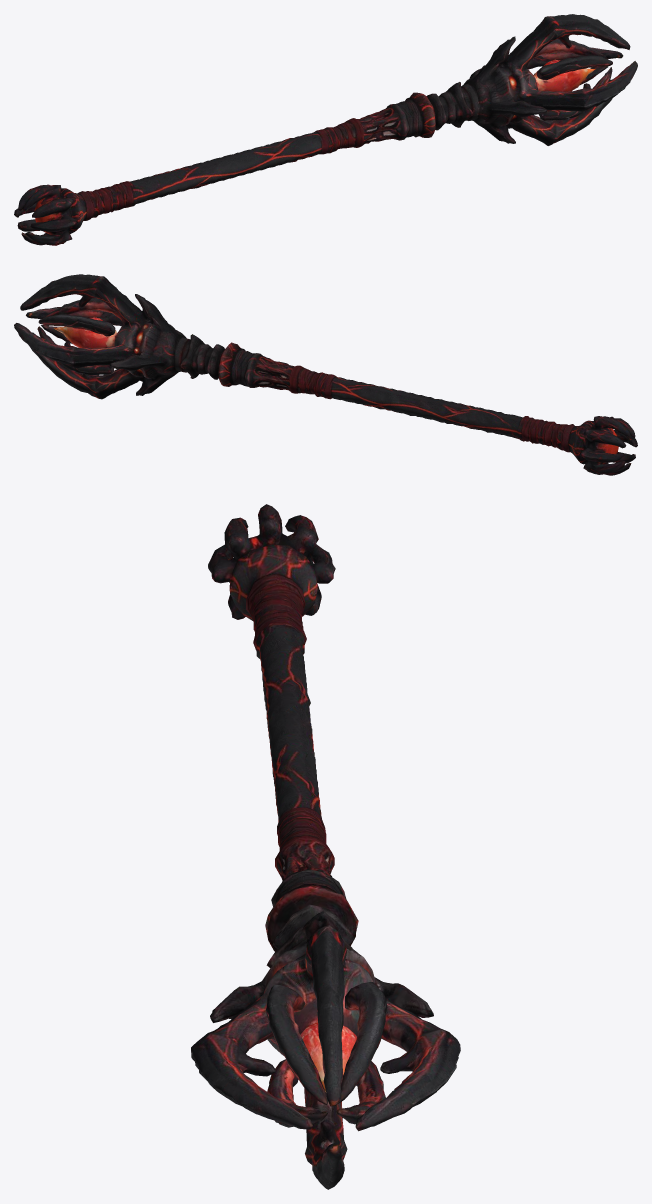
Rendered from EmberveinStaff.glb.
3 renders of one model, top to bottom at view 1: azimuth 30°, elevation 25°; view 2: azimuth 150°, elevation 25°; view 3: azimuth 270°, elevation 25°, orthographic. The views are drawn at different scales.
Parts seen in each view (by area): view 1: Mesh_0; view 2: Mesh_0; view 3: Mesh_0.
Part boxes in pixels (x1,y1,x2,y2): Mesh_0: (14,14,637,245); Mesh_0: (14,274,637,475); Mesh_0: (191,504,460,1189).
Size of the model in its own units: 1.56 by 0.306 by 0.3064.
Materials: 1 (1 with a texture image).
